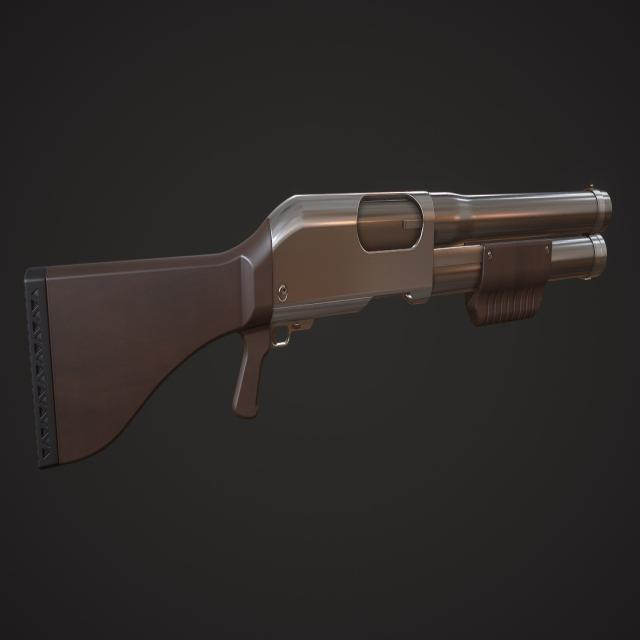ShotGun: (24, 189, 614, 472)
